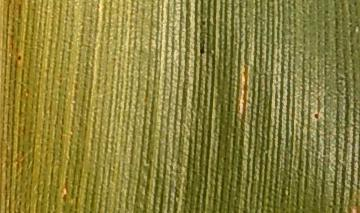tarspot: (199, 39, 205, 55), (312, 112, 320, 121), (16, 54, 23, 61), (200, 18, 206, 26)
